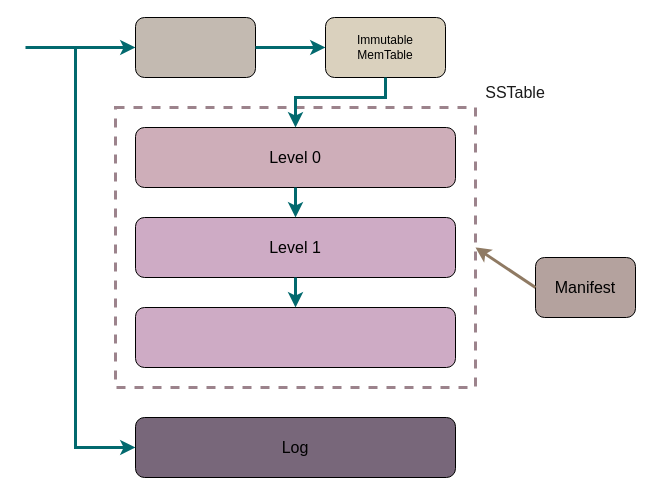
This 653x495 diagram has some shape labels left out. Here are the shapes that lost their labels. From the top down, the box of each, then its label:
(134, 16, 256, 78): MemTable
(134, 306, 456, 368): Level 2
